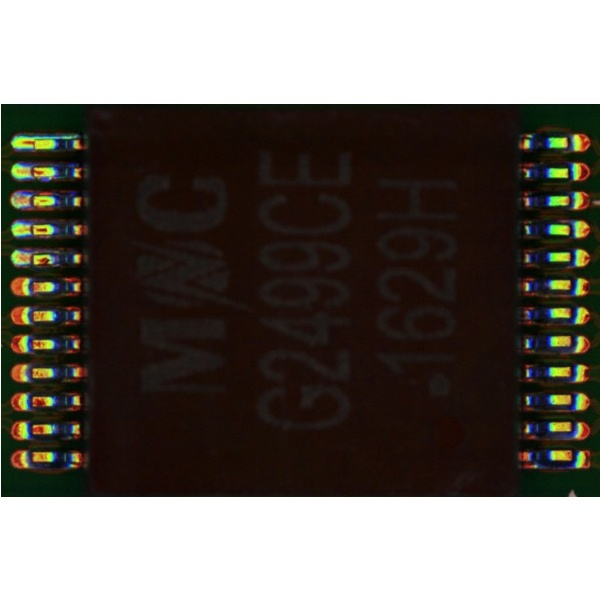Bad_podu: (24, 195, 37, 207), (25, 254, 37, 265), (24, 225, 37, 235), (23, 139, 38, 146), (25, 168, 36, 176)
Bad_qiaojiao: (33, 133, 78, 139), (33, 248, 60, 255)
